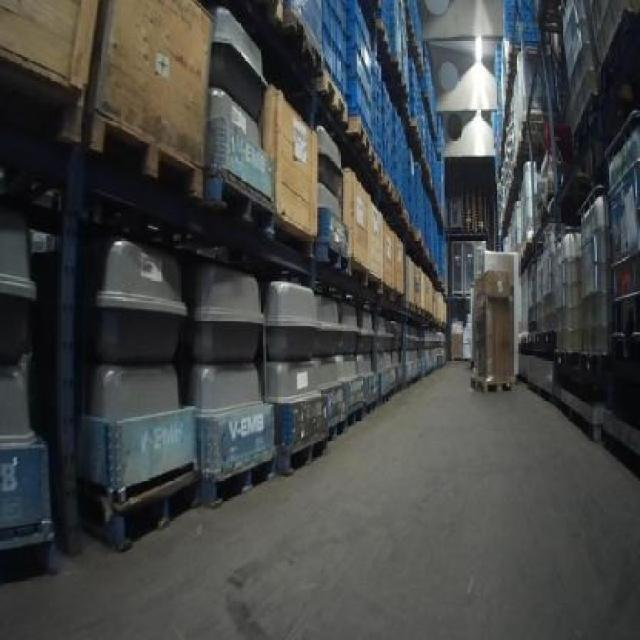floor: (0, 365, 637, 637)
